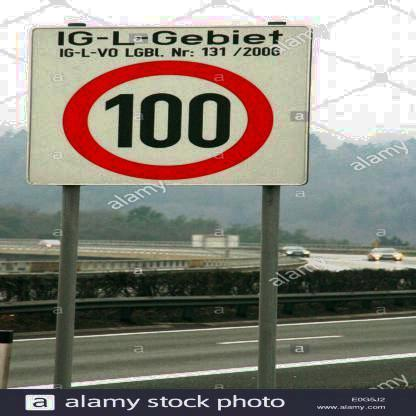Speed Limit -100-: (59, 58, 277, 181)
